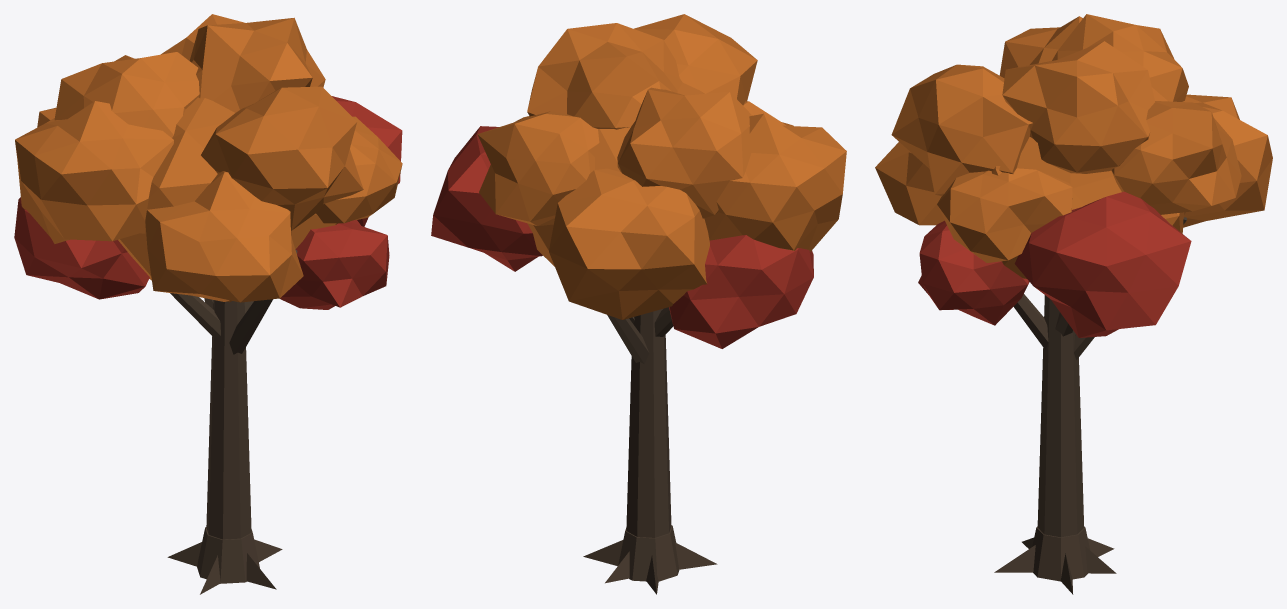
File: tree_autumn.glb
The picture shows the model from 3 angles, left to right: view 1: azimuth 30°, elevation 25°; view 2: azimuth 150°, elevation 25°; view 3: azimuth 270°, elevation 25°; orthographic projection.
Visible parts, largest first — view 1: tree_autumn; view 2: tree_autumn; view 3: tree_autumn.
Boxes of the visible parts, x1,y1,x2,y2 form: tree_autumn: (14,14,402,594); tree_autumn: (431,14,846,594); tree_autumn: (875,14,1272,594).
Size of what is drawn, in the model's own units: 4.3 by 5.92 by 4.05.
Materials: 2 (2 with a texture image).
